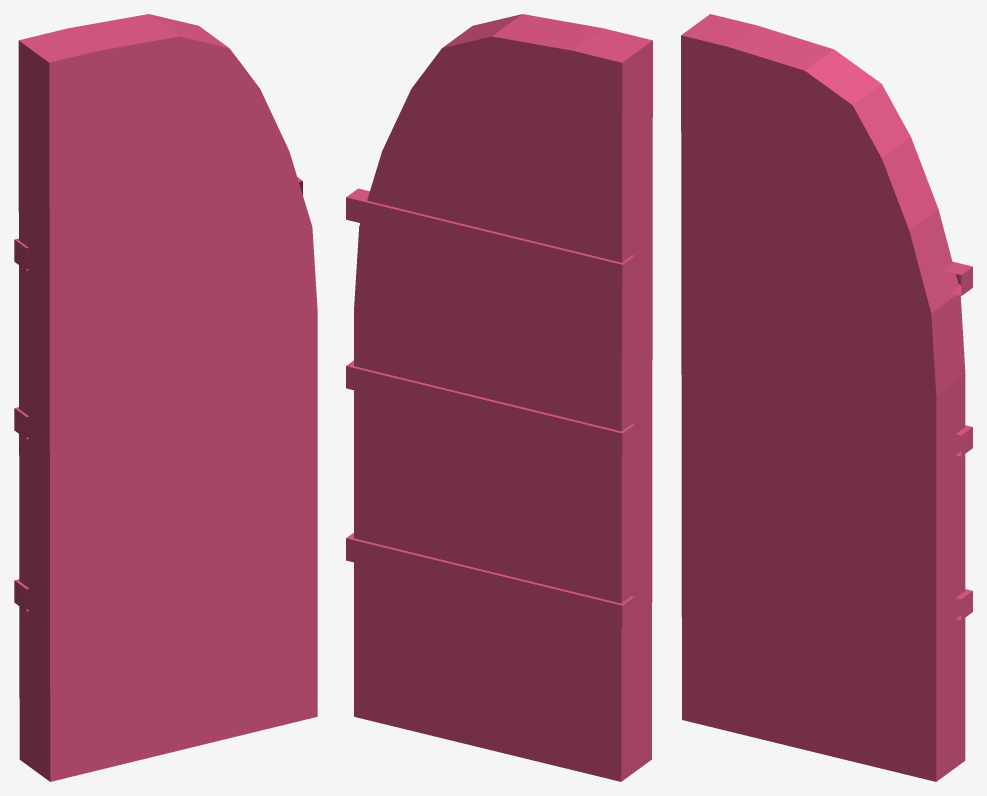
File: Porte.fbx
3 renders of one model, left to right at view 1: azimuth 30°, elevation 25°; view 2: azimuth 150°, elevation 25°; view 3: azimuth 330°, elevation 25°, orthographic. The views are drawn at different scales.
Parts seen in each view (by area): view 1: Cube.006; view 2: Cube.006, Cube.026, Cube.009, Cube.025; view 3: Cube.006, Cube.026.
Boxes of the visible parts, box(x1,y1,x2,y2) form: Cube.006: box(18, 14, 317, 781); Cube.006: box(354, 14, 652, 781); Cube.026: box(346, 188, 634, 286); Cube.009: box(346, 533, 634, 627); Cube.025: box(346, 360, 634, 455); Cube.006: box(681, 14, 965, 781); Cube.026: box(943, 261, 972, 295).
Size of the model in its own units: 0.328 by 1.6 by 3.99.
